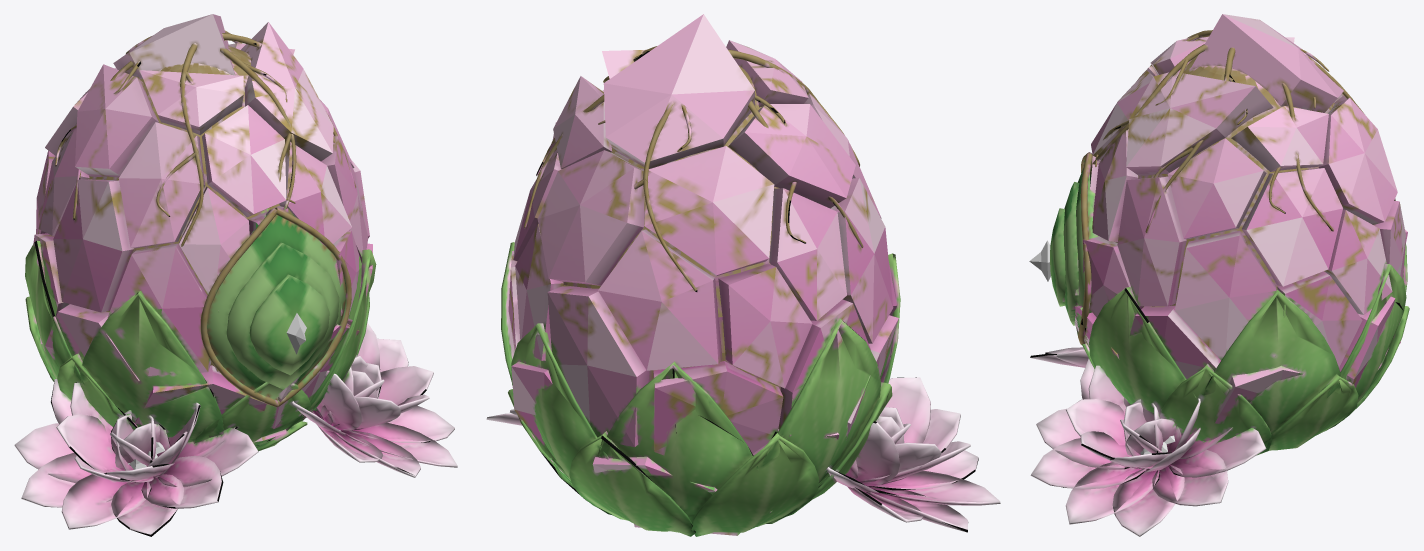
The model's file is BloomwoodEgg.fbx.
3 renders of one model, left to right at view 1: azimuth 30°, elevation 25°; view 2: azimuth 150°, elevation 25°; view 3: azimuth 270°, elevation 25°, orthographic. The views are drawn at different scales.
Visible parts, largest first — view 1: BloomwoodEgg_Body; view 2: BloomwoodEgg_Body; view 3: BloomwoodEgg_Body.
Part boxes in pixels (x1,y1,x2,y2): BloomwoodEgg_Body: (14,14,457,536); BloomwoodEgg_Body: (486,14,1000,536); BloomwoodEgg_Body: (1030,14,1409,536).
Size of the model in its own units: 3.03 by 3.08 by 2.46.
Materials: 3 (1 with a texture image).
